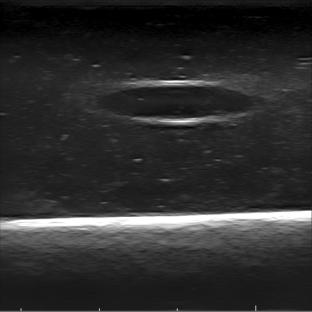vessel: (101, 79, 263, 126)
